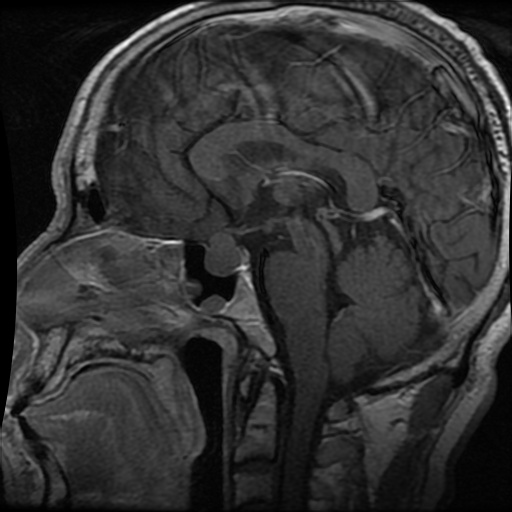pituitary: (203, 232, 244, 277)
